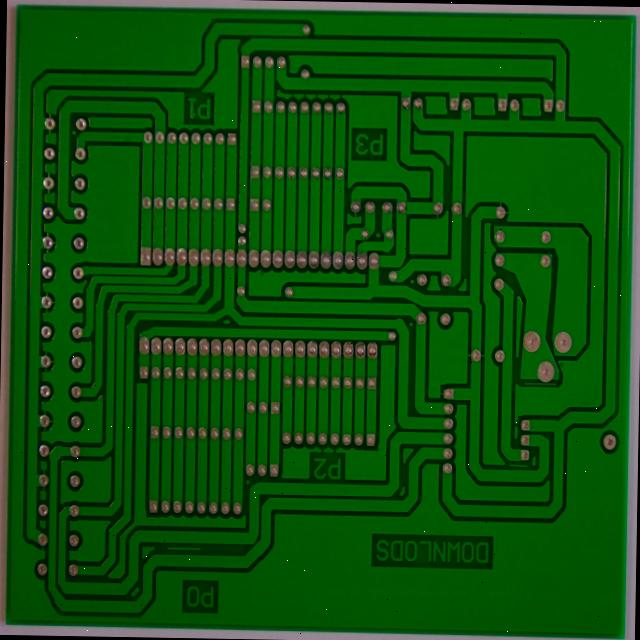spurious_copper: (163, 541, 204, 553), (519, 376, 557, 387), (507, 459, 528, 469)
